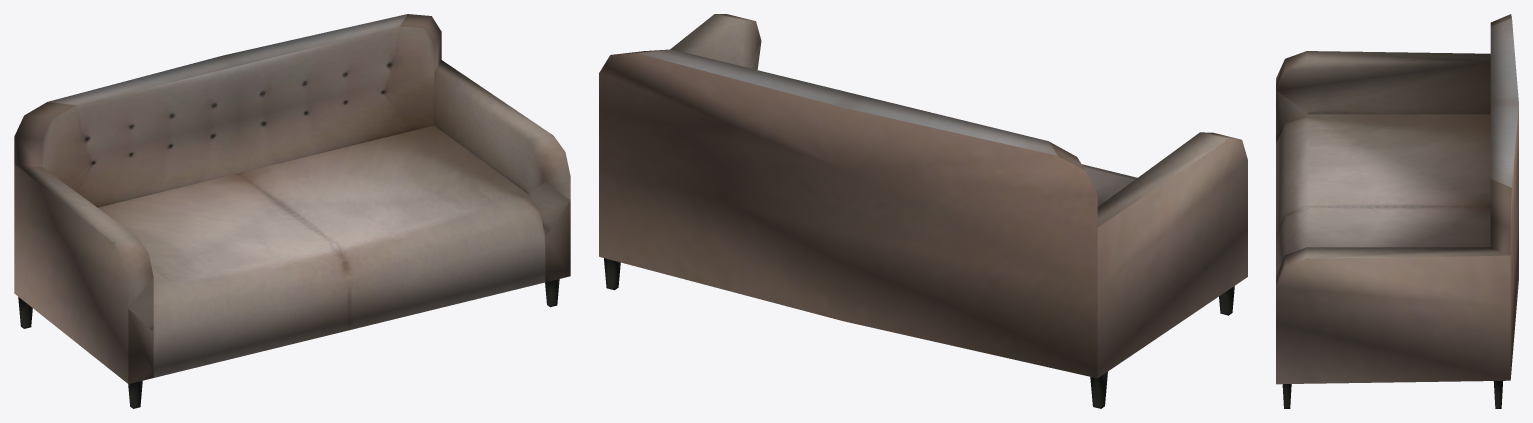
File: couch.glb
3 views of the same model, side by side, from view 1: azimuth 30°, elevation 25°; view 2: azimuth 150°, elevation 25°; view 3: azimuth 270°, elevation 25° (orthographic). The views are drawn at different scales.
Visible parts, largest first — view 1: Cube; view 2: Cube; view 3: Cube.
Boxes of the visible parts, left/top/right/bottom form: Cube: left=14, top=14, right=570, bottom=408; Cube: left=599, top=14, right=1247, bottom=408; Cube: left=1276, top=14, right=1518, bottom=408.
Bounding box in the file's own units: 2.26 × 1.04 × 1.11.
1 material, 1 textured.
